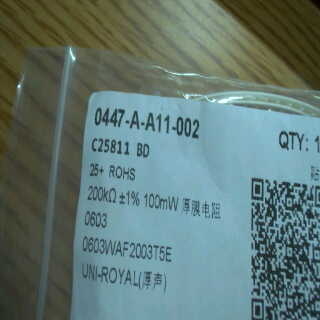200kR: (84, 183, 116, 207)
